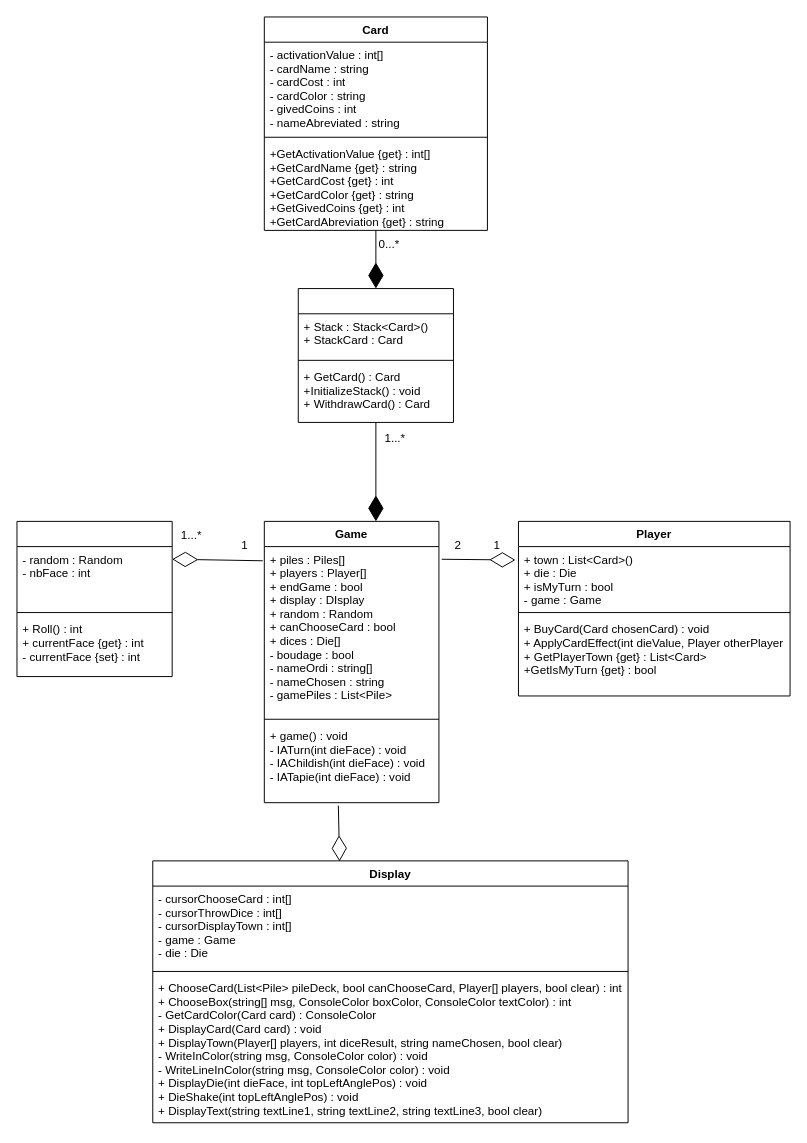
Some shapes in this 807 by 1143 pixel diagram are drawn without their labels. Here are the shapes that lost their labels. From the top down, the box of each, then its label:
(297, 288, 453, 422): Piles
(16, 520, 172, 677): Dice
